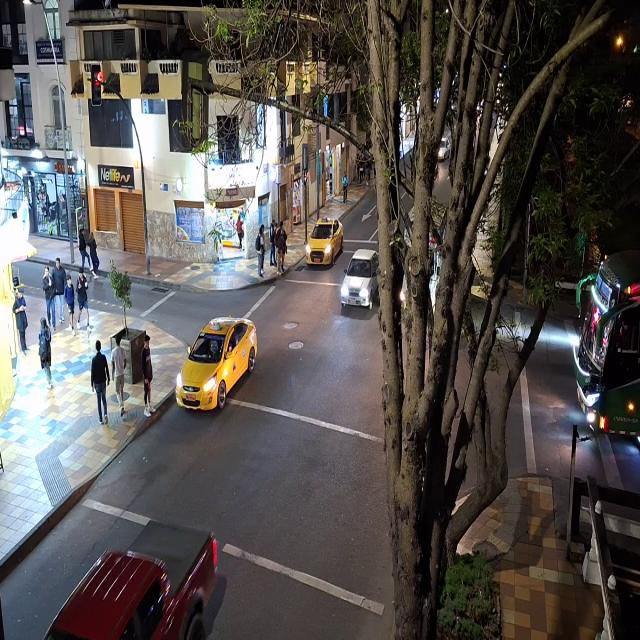BUS: (577, 248, 640, 433)
CMT: (46, 517, 220, 640)
SED: (177, 315, 257, 414)
